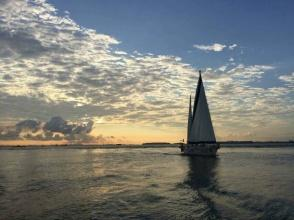fanchuan: (171, 73, 226, 156)
